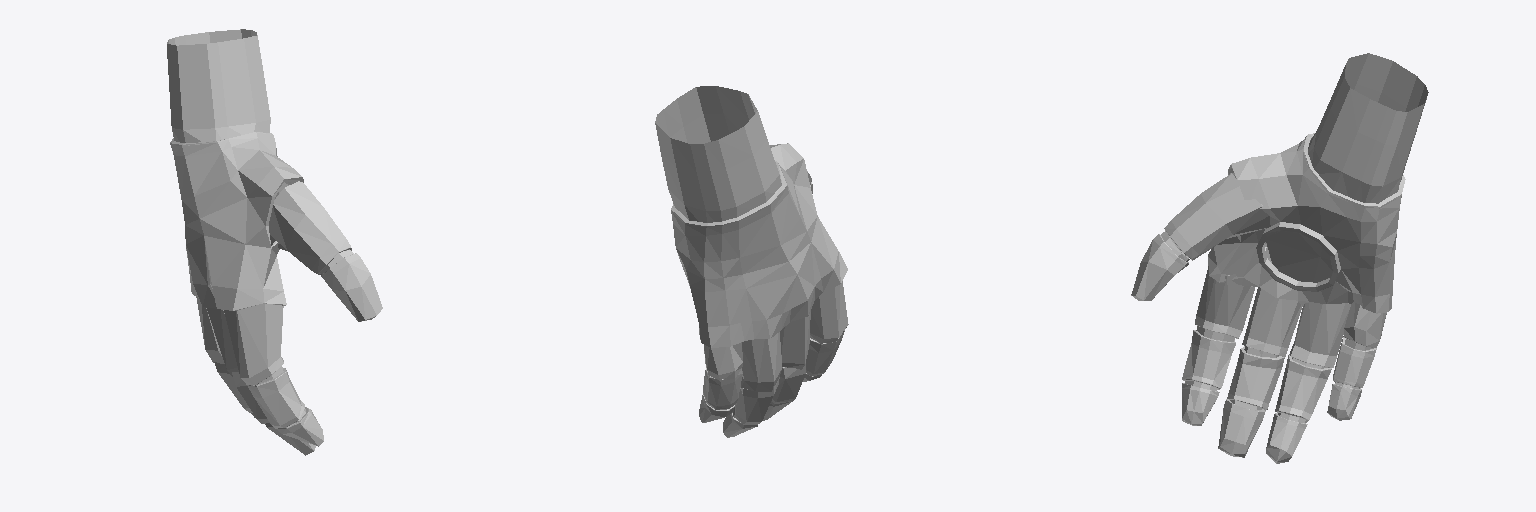
The model's file is irighthand2.obj.
3 views of the same model, side by side, from view 1: azimuth 30°, elevation 25°; view 2: azimuth 150°, elevation 25°; view 3: azimuth 270°, elevation 25° (orthographic).
Parts seen in each view (by area): view 1: HD_Ironman:Object13; view 2: HD_Ironman:Object13; view 3: HD_Ironman:Object13.
Part boxes in pixels (left/top/right/bottom): HD_Ironman:Object13: left=167, top=29, right=382, bottom=455; HD_Ironman:Object13: left=655, top=86, right=848, bottom=437; HD_Ironman:Object13: left=1131, top=53, right=1428, bottom=463.
Size of the model in its own units: 0.8247 by 2.68 by 1.89.